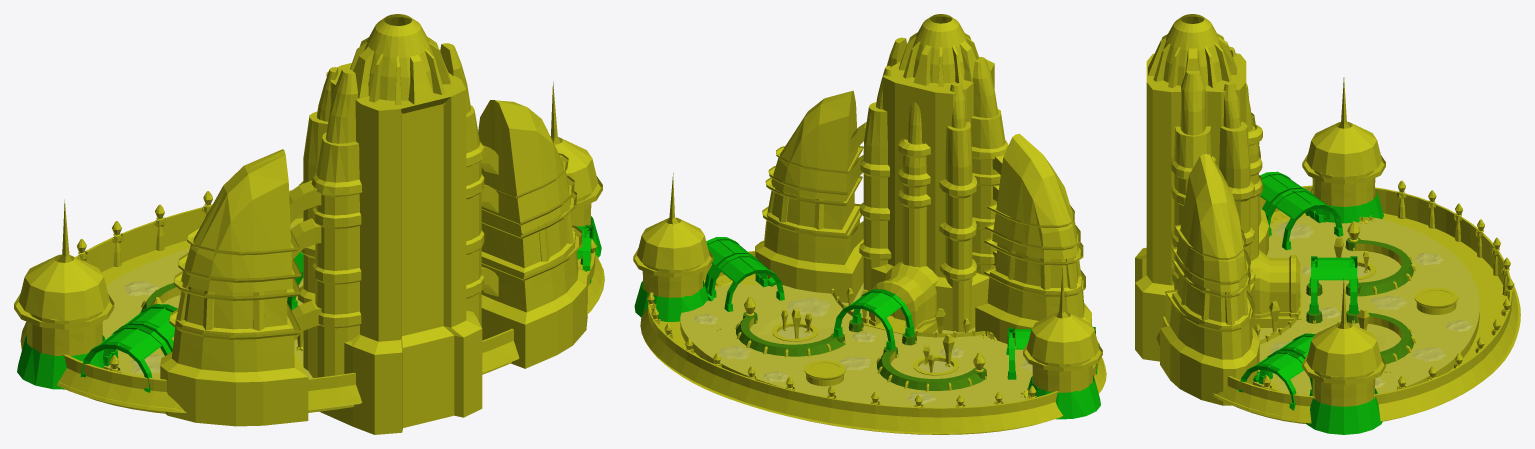
3 views of the same model, side by side, from view 1: azimuth 30°, elevation 25°; view 2: azimuth 150°, elevation 25°; view 3: azimuth 270°, elevation 25° (orthographic). The views are drawn at different scales.
Visible parts, largest first — view 1: collision; view 2: collision; view 3: collision.
Part boxes in pixels (bbox=[...]): collision: bbox=[14, 14, 604, 434]; collision: bbox=[633, 14, 1106, 434]; collision: bbox=[1135, 14, 1520, 434].
Bounding box in the file's own units: 153 × 106 × 96.61.
